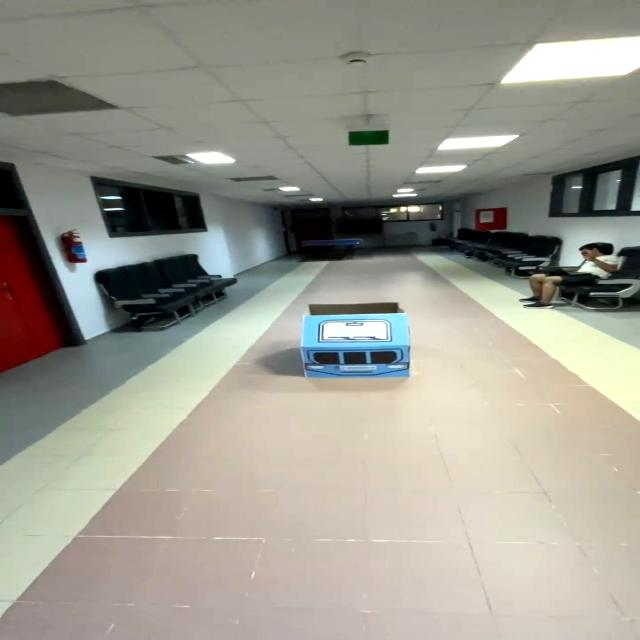blue_car: (272, 295, 430, 399)
